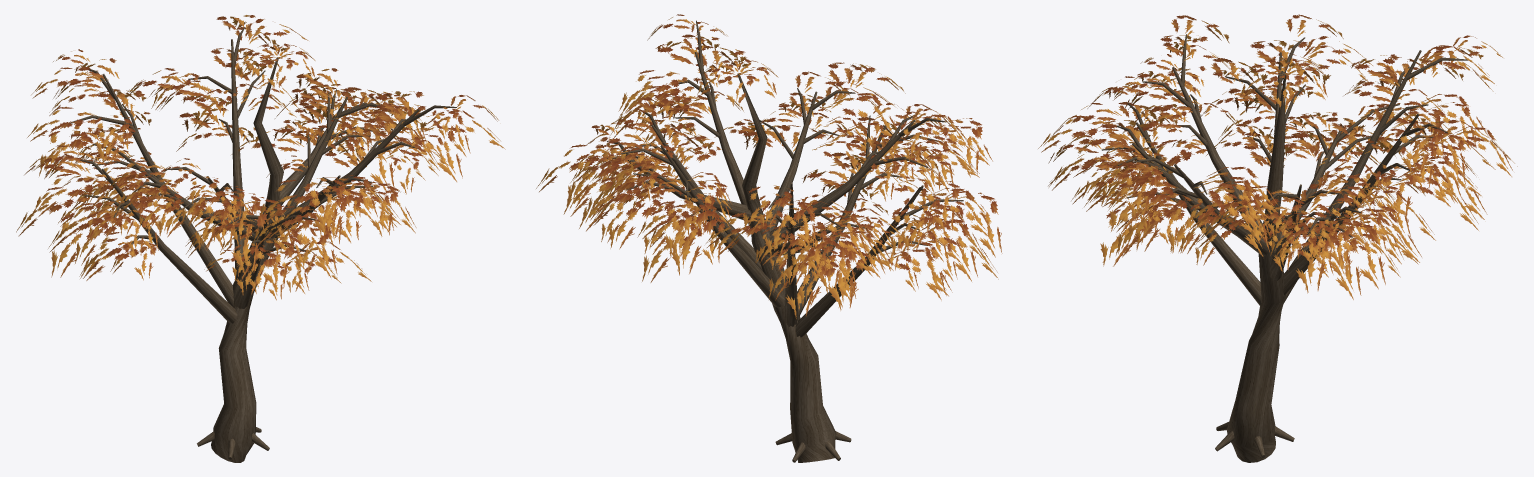
File: japanese_maple_gold.glb
3 views of the same model, side by side, from view 1: azimuth 30°, elevation 25°; view 2: azimuth 150°, elevation 25°; view 3: azimuth 270°, elevation 25° (orthographic). The views are drawn at different scales.
Visible parts, largest first — view 1: japanese_maple_gold; view 2: japanese_maple_gold; view 3: japanese_maple_gold.
Part boxes in pixels (left/top/right/bottom): japanese_maple_gold: left=16, top=15, right=505, bottom=462; japanese_maple_gold: left=536, top=14, right=1002, bottom=462; japanese_maple_gold: left=1038, top=14, right=1517, bottom=462.
Bounding box in the file's own units: 6.2 × 5.6 × 5.8.
Materials: 2 (2 with a texture image).
